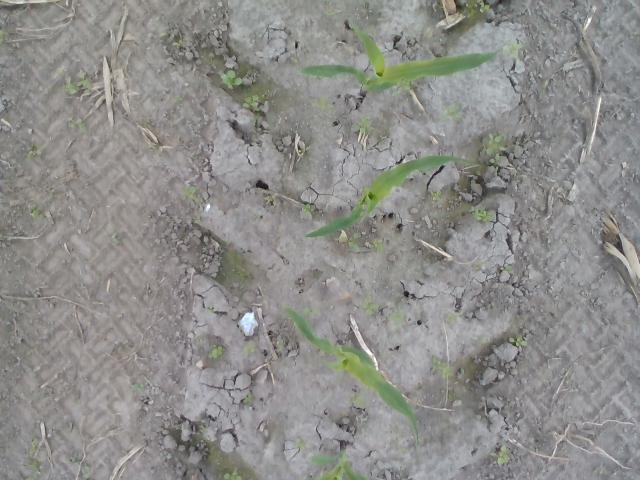Maize: (284, 306, 422, 445), (296, 17, 496, 92), (305, 156, 467, 237), (308, 447, 371, 480)
Weeds: (478, 132, 506, 166), (64, 70, 90, 95), (218, 69, 244, 91), (439, 102, 464, 123), (385, 307, 408, 327), (362, 290, 381, 314), (430, 358, 452, 378), (310, 96, 336, 112), (352, 116, 374, 134), (472, 206, 496, 222), (508, 334, 528, 352), (24, 143, 44, 160), (466, 0, 490, 14), (504, 42, 525, 57), (28, 457, 44, 475), (242, 94, 260, 110), (300, 304, 322, 317), (208, 344, 225, 360), (496, 446, 510, 465), (349, 232, 361, 254), (368, 238, 384, 252), (351, 392, 365, 406), (68, 117, 82, 129), (184, 186, 196, 200), (242, 392, 254, 406), (223, 471, 241, 480), (29, 438, 39, 454), (128, 383, 144, 393), (303, 204, 314, 218), (276, 335, 284, 354), (30, 207, 43, 218), (498, 262, 512, 272), (290, 54, 304, 64), (400, 80, 410, 94), (242, 342, 255, 352), (172, 40, 185, 50), (82, 464, 90, 480), (386, 88, 401, 96), (320, 10, 336, 17), (295, 438, 305, 449), (206, 305, 216, 315), (432, 190, 441, 200), (400, 447, 410, 456), (193, 440, 204, 448), (358, 0, 369, 8), (446, 313, 456, 321), (175, 95, 183, 105), (318, 0, 336, 4), (255, 32, 262, 41), (479, 336, 487, 343), (560, 49, 567, 57), (538, 88, 544, 96), (160, 32, 168, 38), (240, 331, 243, 336)
